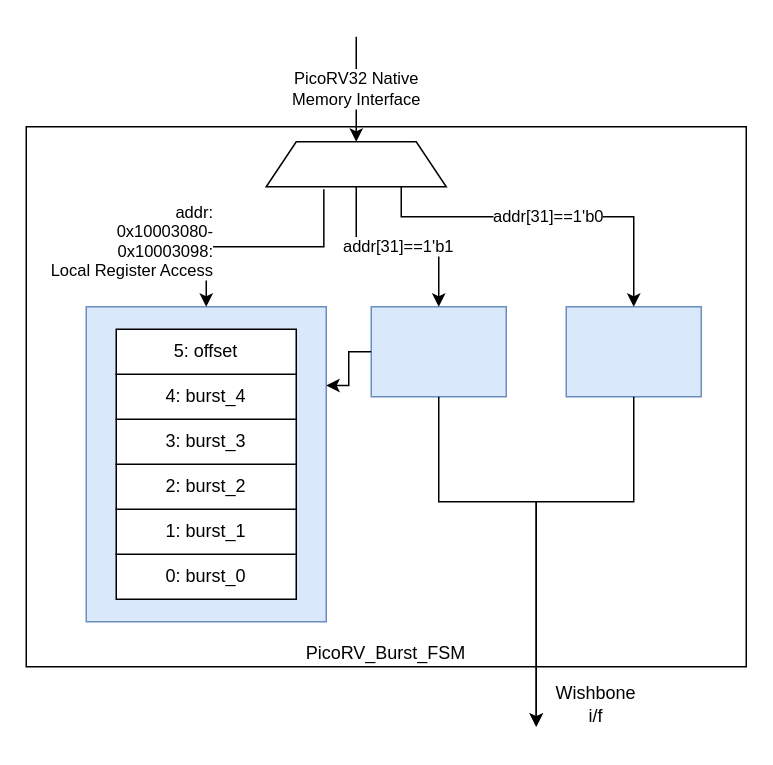
The diagram is 773 pixels wide and 765 high, and some of its shapes have lost their labels. The centre of each missing label's shape, as x and y in pixels:
"Single WB Transaction" belongs at (633,351).
"WB Burst Transaction" belongs at (438,351).
